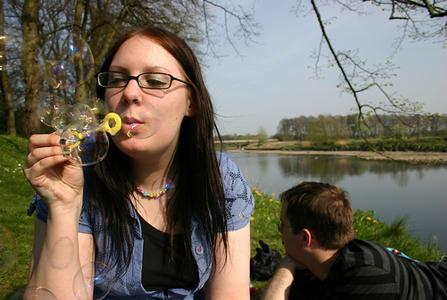person: (19, 23, 258, 298)
